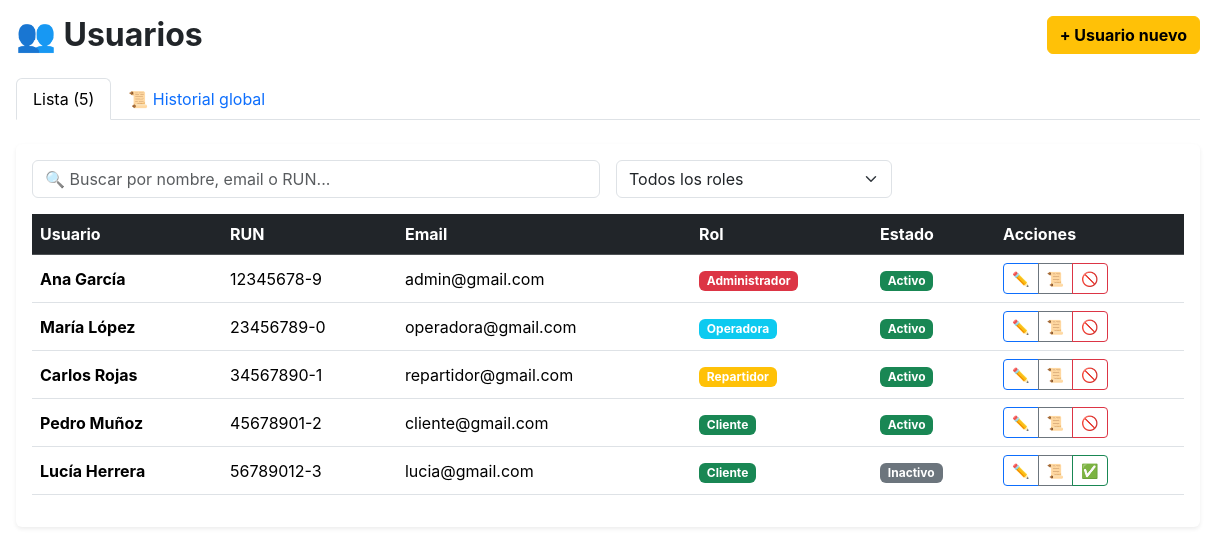
Test: Usuarios admin - listas y filtros › filtra usuarios por búsqueda
Type "repartidor@gmail" into the field with placeholder "🔍 Buscar por nombre, email o RUN...". click: point(316, 179)
box: 32,160 -> 600,198
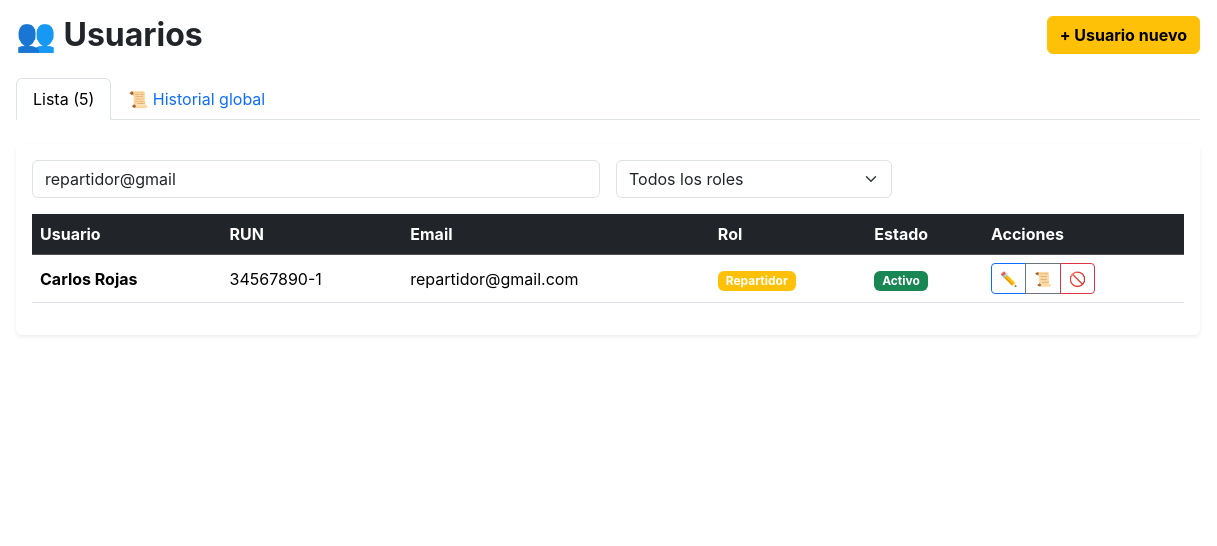
Expected: the text "Carlos Rojas" is shown, 40,269 -> 138,289
Result: the text "María López" is gone
